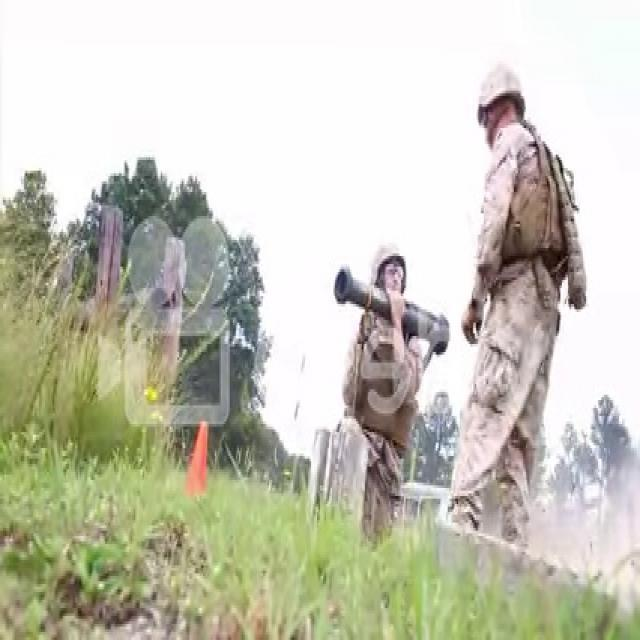rocket: (334, 262, 454, 352)
